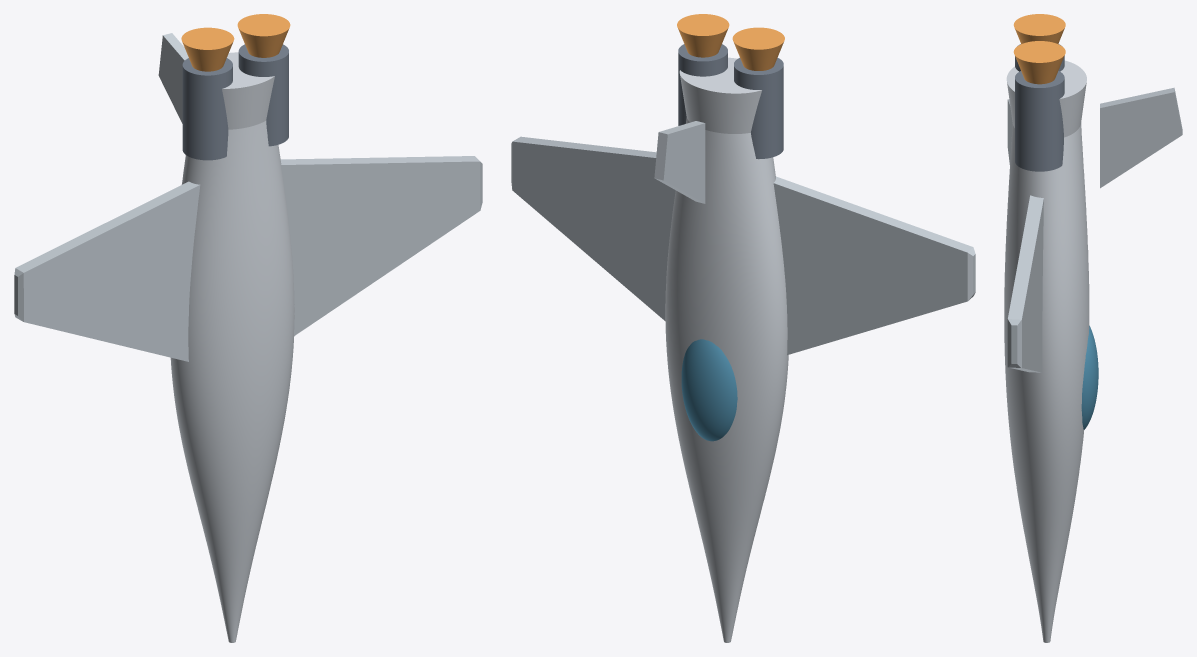
The model's file is ship.glb.
3 renders of one model, left to right at view 1: azimuth 30°, elevation 25°; view 2: azimuth 150°, elevation 25°; view 3: azimuth 270°, elevation 25°, orthographic.
Parts seen in each view (by area): view 1: =>[0:1:1:4], =>[0:1:1:7], =>[0:1:1:10], =>[0:1:1:19], =>[0:1:1:17], =>[0:1:1:24], =>[0:1:1:22], =>[0:1:1:12]; view 2: =>[0:1:1:4], =>[0:1:1:10], =>[0:1:1:7], =>[0:1:1:14], =>[0:1:1:12], =>[0:1:1:19], =>[0:1:1:22], =>[0:1:1:24], =>[0:1:1:17]; view 3: =>[0:1:1:4], =>[0:1:1:12], =>[0:1:1:7], =>[0:1:1:17], =>[0:1:1:22], =>[0:1:1:24], =>[0:1:1:14], =>[0:1:1:10].
Boxes of the visible parts, <box> form: =>[0:1:1:4]: <box>170,52,294,642</box>; =>[0:1:1:7]: <box>280,156,482,335</box>; =>[0:1:1:10]: <box>14,181,200,361</box>; =>[0:1:1:19]: <box>182,58,232,160</box>; =>[0:1:1:17]: <box>238,44,288,146</box>; =>[0:1:1:24]: <box>181,27,234,71</box>; =>[0:1:1:22]: <box>237,14,290,57</box>; =>[0:1:1:12]: <box>158,33,188,123</box>; =>[0:1:1:4]: <box>665,57,788,642</box>; =>[0:1:1:10]: <box>773,176,975,355</box>; =>[0:1:1:7]: <box>511,136,675,321</box>; =>[0:1:1:14]: <box>681,339,737,441</box>; =>[0:1:1:12]: <box>654,121,705,203</box>; =>[0:1:1:19]: <box>734,57,783,159</box>; =>[0:1:1:22]: <box>677,14,729,57</box>; =>[0:1:1:24]: <box>732,27,784,70</box>; =>[0:1:1:17]: <box>678,44,727,125</box>; =>[0:1:1:4]: <box>1004,60,1089,642</box>; =>[0:1:1:12]: <box>1100,87,1182,188</box>; =>[0:1:1:7]: <box>1007,195,1043,372</box>; =>[0:1:1:17]: <box>1015,71,1064,171</box>; =>[0:1:1:22]: <box>1013,41,1065,84</box>; =>[0:1:1:24]: <box>1013,14,1065,43</box>; =>[0:1:1:14]: <box>1081,325,1098,429</box>; =>[0:1:1:10]: <box>1007,99,1012,164</box>.
Bounding box in the file's own units: 0.00448 × 0.00563 × 0.00151.
